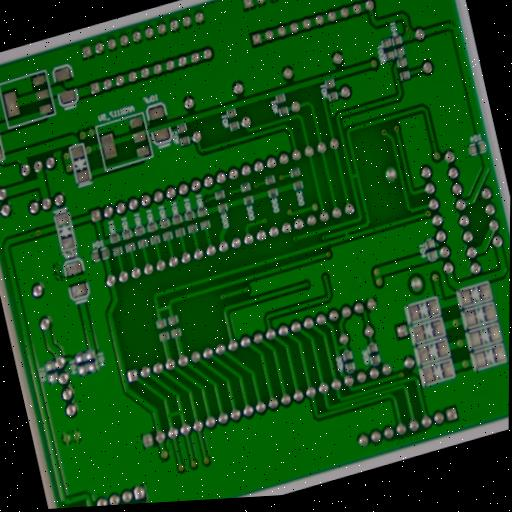short_circuit: (151, 299, 175, 318), (163, 405, 185, 424), (332, 338, 352, 358), (346, 167, 363, 185), (339, 227, 354, 244)
